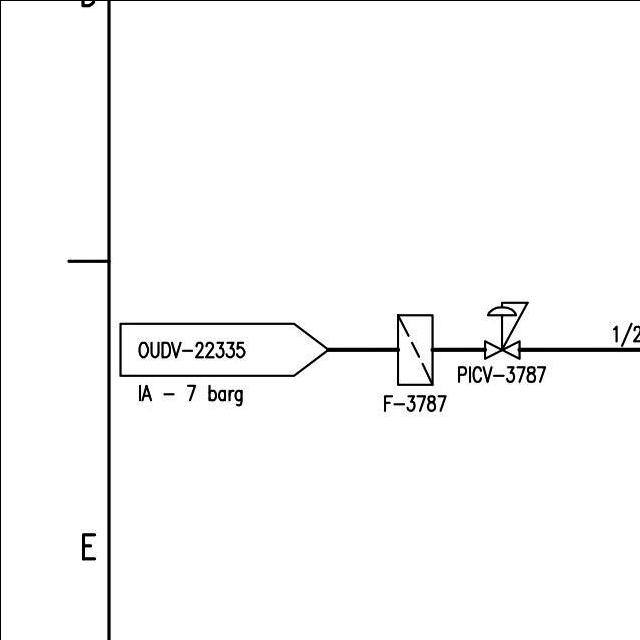F2: (390, 310, 442, 388)
PCV: (480, 294, 532, 360)
